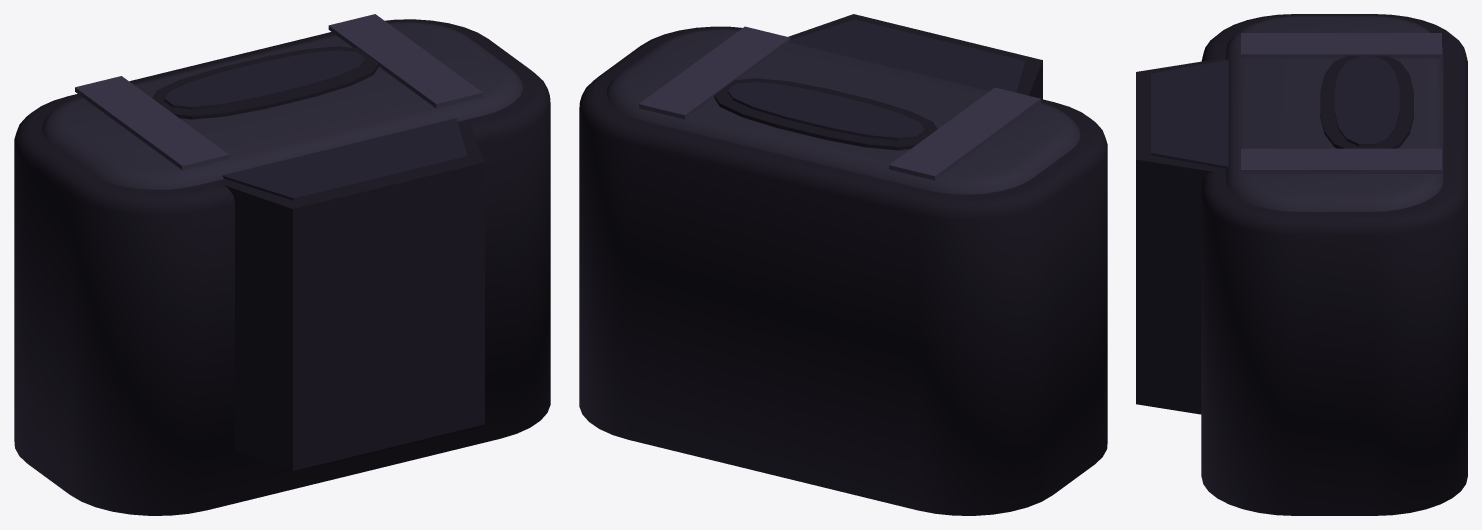
The model's file is bag_padrao_noturna.fbx.
3 views of the same model, side by side, from view 1: azimuth 30°, elevation 25°; view 2: azimuth 150°, elevation 25°; view 3: azimuth 270°, elevation 25° (orthographic). The views are drawn at different scales.
Parts seen in each view (by area): view 1: bag_padrao_noturna_mochila; view 2: bag_padrao_noturna_mochila; view 3: bag_padrao_noturna_mochila.
Boxes of the visible parts, x1,y1,x2,y2 form: bag_padrao_noturna_mochila: (14,14,550,515); bag_padrao_noturna_mochila: (579,14,1107,515); bag_padrao_noturna_mochila: (1136,14,1467,515).
Size of the model in its own units: 2.8 by 1.9 by 1.84.
Materials: 1 (1 with a texture image).
